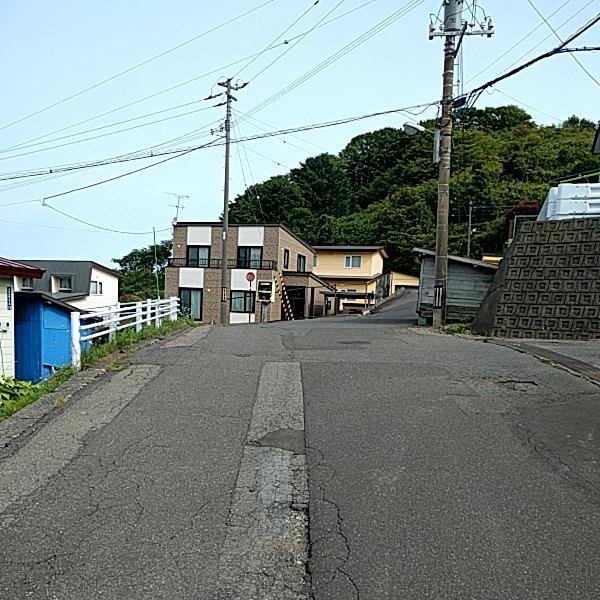pothole: (500, 375, 541, 396)
